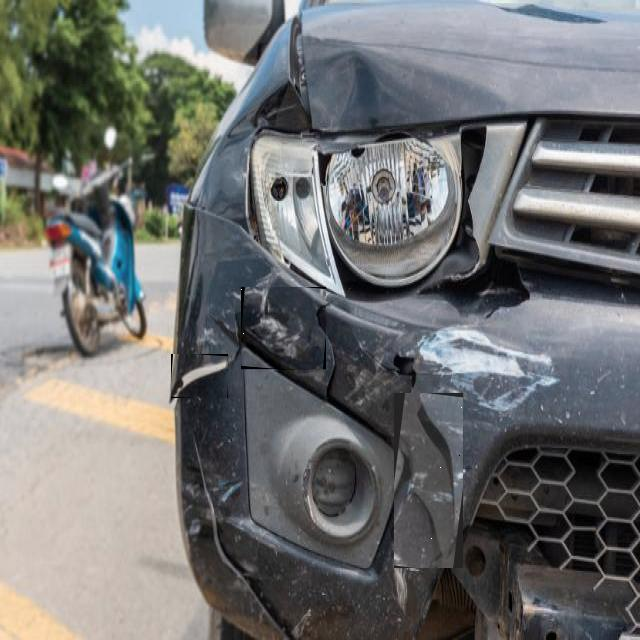Dent: (394, 393, 463, 568), (241, 288, 326, 372), (171, 354, 228, 398)
